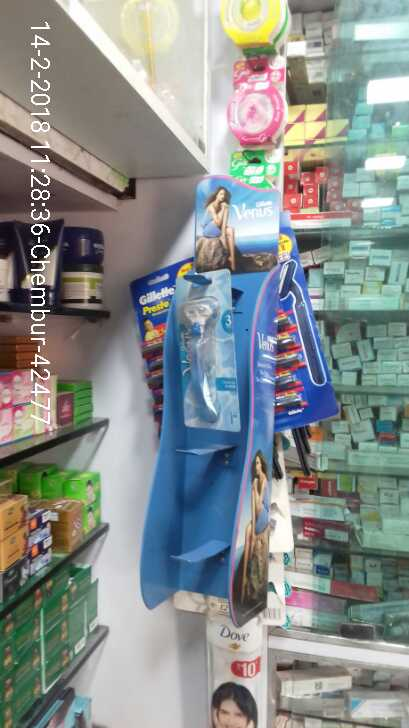venus: (179, 267, 239, 437)
